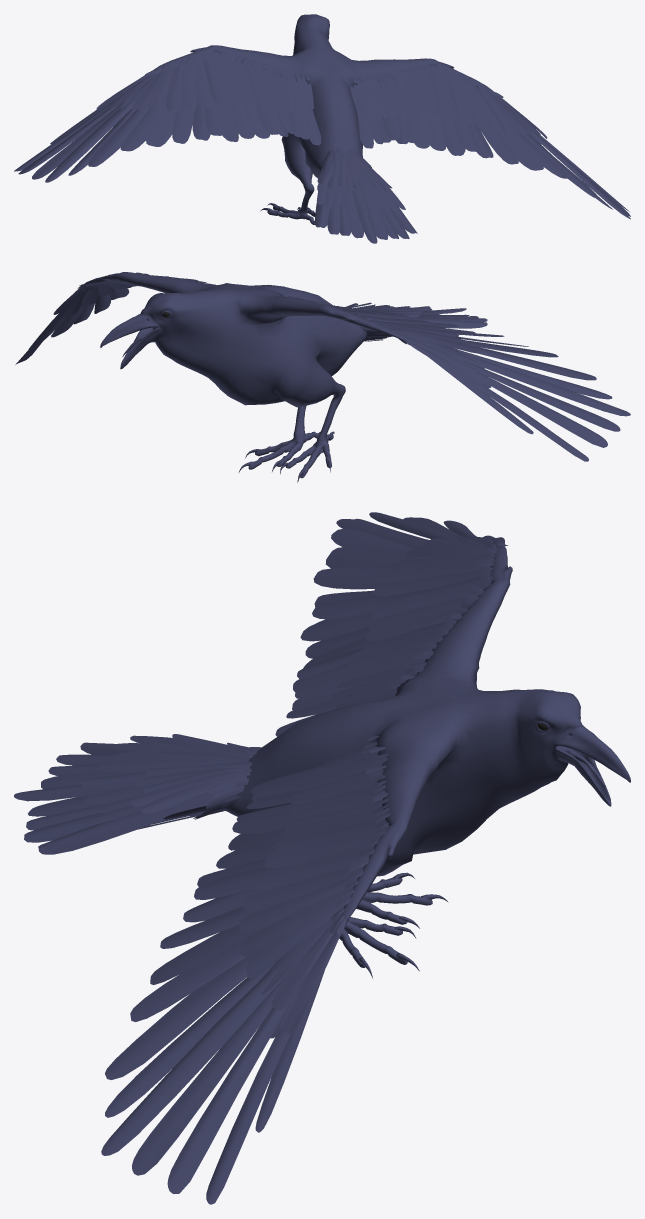
Rendered from raven.obj.
3 views of the same model, one above another, from view 1: azimuth 30°, elevation 25°; view 2: azimuth 150°, elevation 25°; view 3: azimuth 270°, elevation 25° (orthographic). The views are drawn at different scales.
Visible parts, largest first — view 1: Raven; view 2: Raven; view 3: Raven.
Boxes of the visible parts, box(x1,y1,x2,y2) form: Raven: box(14, 14, 630, 243); Raven: box(15, 272, 630, 482); Raven: box(14, 512, 630, 1204).
Bounding box in the file's own units: 6.97 × 2.3 × 3.84.
